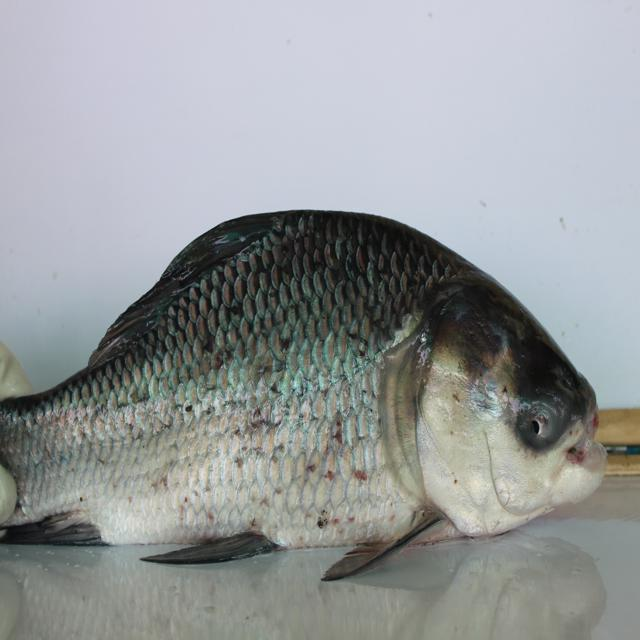Catla: (1, 207, 611, 583)
